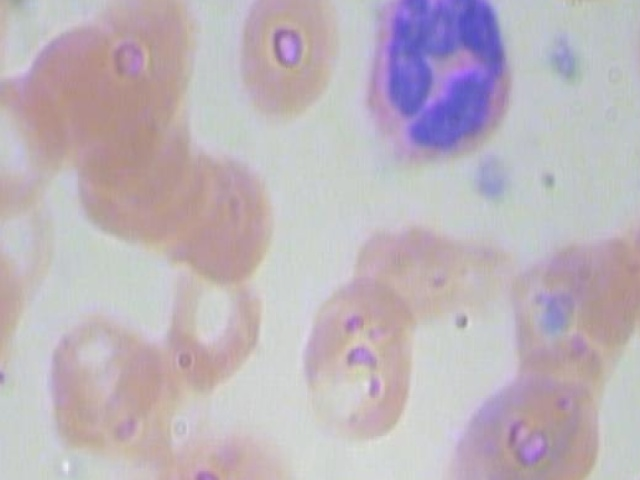Platelets: (537, 21, 586, 93)
RBC: (497, 223, 640, 383), (286, 278, 424, 439), (444, 352, 606, 480), (148, 138, 279, 292), (67, 102, 197, 256), (98, 105, 228, 259), (20, 15, 138, 165), (73, 65, 191, 215), (218, 0, 356, 124), (343, 197, 466, 333), (158, 243, 272, 388), (80, 336, 194, 480), (36, 310, 149, 455), (85, 0, 204, 110), (145, 416, 301, 480), (0, 68, 72, 206), (0, 161, 67, 298), (0, 239, 36, 388), (600, 418, 640, 480), (372, 0, 497, 10), (512, 0, 640, 4)
WBC: (357, 0, 517, 165)
